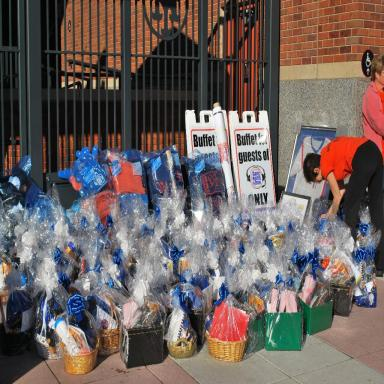plasticbag: (0, 142, 382, 363), (164, 294, 200, 358)
